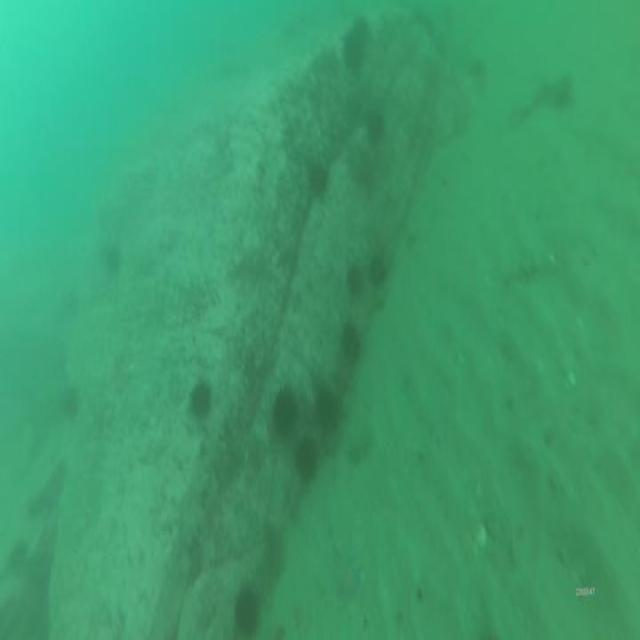echinus: (238, 586, 260, 637), (274, 390, 298, 433), (319, 389, 340, 428), (298, 439, 317, 482), (348, 28, 366, 66), (341, 324, 359, 362), (190, 386, 212, 417), (309, 160, 330, 191), (367, 114, 389, 137), (371, 258, 386, 289), (348, 270, 364, 291)
starfish: (354, 145, 378, 196), (333, 555, 359, 597), (346, 433, 369, 458)
